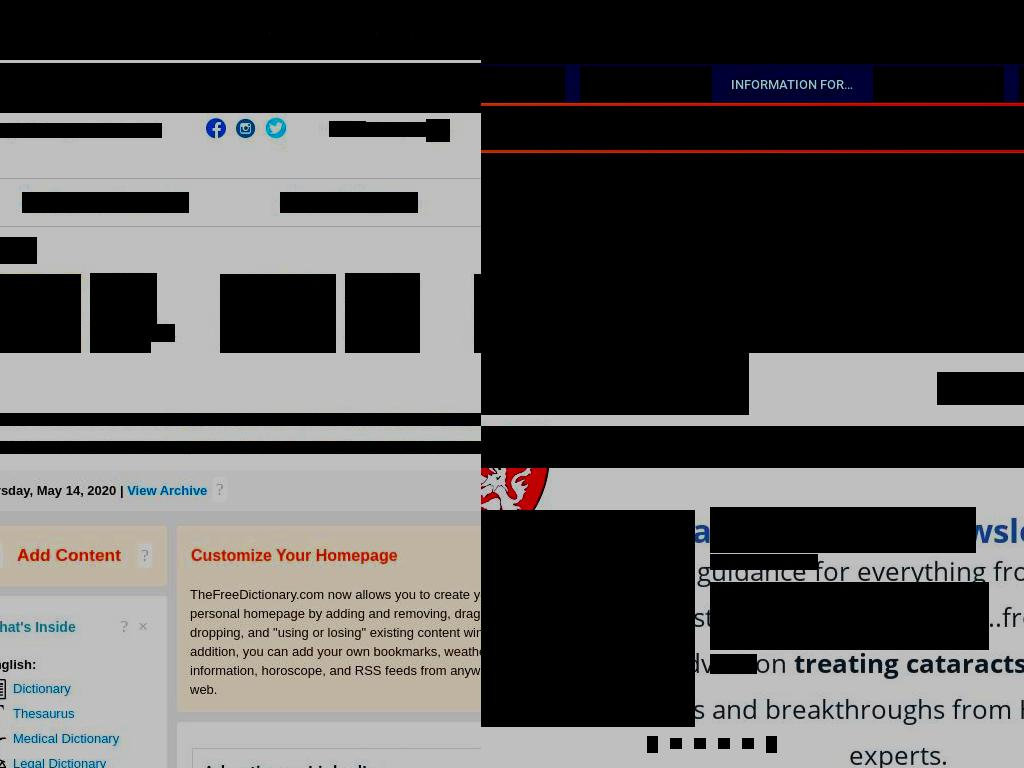button: (481, 153, 1024, 353), (481, 510, 695, 727), (0, 63, 481, 113), (481, 353, 749, 415), (220, 274, 336, 353), (0, 274, 81, 353), (580, 66, 712, 102), (727, 66, 858, 102), (873, 66, 1004, 102), (553, 426, 653, 468), (652, 426, 752, 468), (751, 426, 851, 468), (850, 426, 950, 468), (22, 192, 189, 213), (949, 426, 1024, 468), (481, 426, 554, 468), (481, 66, 565, 102), (280, 192, 418, 213), (937, 372, 1024, 405), (194, 1, 274, 23), (303, 1, 372, 23), (98, 1, 165, 23), (18, 1, 69, 23), (401, 1, 441, 23), (647, 736, 658, 753), (766, 736, 777, 753)
field: (481, 0, 1024, 64)
heading: (710, 507, 976, 553), (345, 273, 420, 353), (191, 546, 398, 565), (90, 273, 157, 325), (0, 413, 175, 426), (125, 441, 266, 454), (90, 324, 175, 342), (0, 618, 76, 635), (391, 441, 481, 454), (1, 441, 69, 454), (310, 441, 376, 454), (90, 341, 151, 353), (67, 441, 120, 454), (431, 413, 481, 426), (385, 413, 427, 426), (263, 413, 304, 426), (217, 413, 257, 426), (174, 413, 211, 426), (309, 413, 345, 426), (271, 441, 304, 454), (349, 413, 379, 426), (376, 441, 393, 454), (304, 441, 312, 454), (210, 413, 217, 426), (256, 413, 263, 426), (302, 413, 309, 426), (343, 413, 350, 426), (379, 413, 386, 426), (425, 413, 432, 426), (120, 441, 127, 454), (265, 441, 272, 454)
image: (481, 510, 680, 727), (0, 63, 481, 107), (481, 353, 749, 409), (220, 274, 336, 353), (0, 274, 81, 353), (426, 119, 450, 142), (670, 738, 682, 749), (694, 738, 706, 749), (718, 738, 730, 749), (742, 738, 754, 749)
link: (0, 730, 119, 746), (710, 554, 818, 570), (0, 755, 106, 768), (127, 482, 208, 498), (0, 705, 74, 721), (0, 680, 71, 696), (710, 654, 757, 674), (365, 122, 409, 137), (329, 121, 366, 137), (0, 19, 23, 33), (138, 616, 149, 636), (215, 479, 224, 499), (141, 545, 150, 565), (120, 616, 128, 636)
text: (190, 584, 481, 699), (481, 106, 1024, 150), (710, 582, 989, 650), (0, 7, 481, 33), (21, 19, 481, 33), (580, 66, 712, 102), (727, 66, 858, 102), (873, 66, 1004, 102), (16, 537, 131, 574), (0, 654, 154, 674), (481, 66, 565, 102), (562, 431, 645, 462), (760, 431, 843, 462), (958, 431, 1024, 462), (0, 123, 136, 138), (0, 482, 127, 498), (481, 431, 546, 462), (875, 439, 926, 455), (687, 439, 718, 455), (135, 123, 162, 138), (408, 122, 427, 137)
